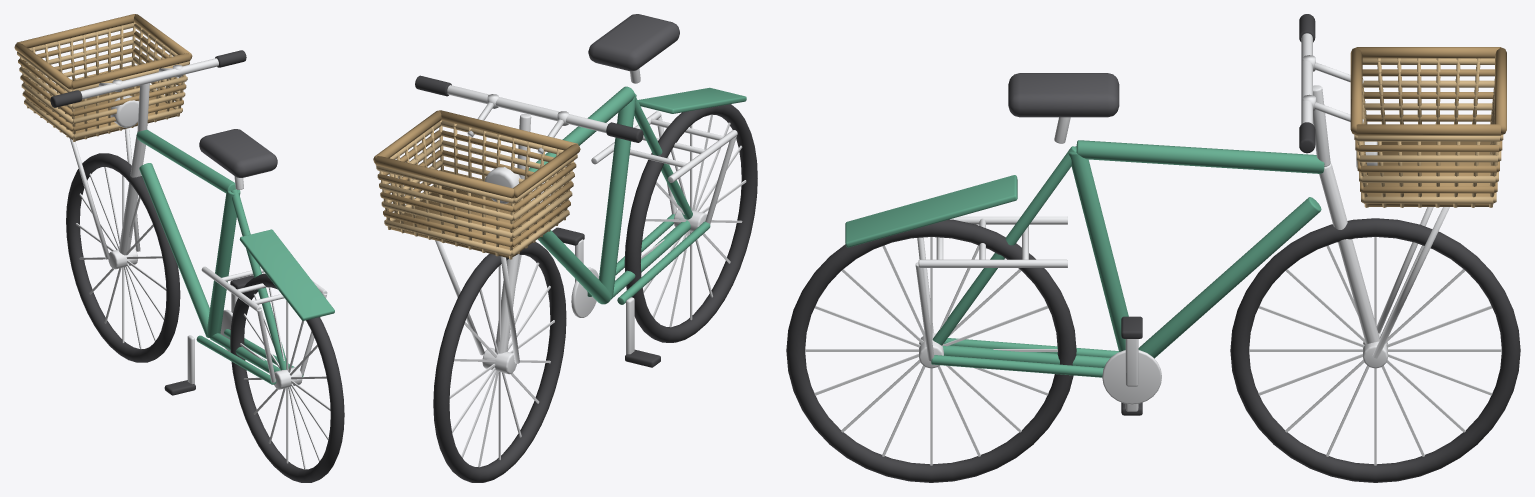
The model's file is Rower.fbx.
3 views of the same model, side by side, from view 1: azimuth 30°, elevation 25°; view 2: azimuth 150°, elevation 25°; view 3: azimuth 270°, elevation 25° (orthographic). The views are drawn at different scales.
Parts seen in each view (by area): view 1: Rower_Rama, Rower_Koszyk_Wiklina, Rower_Kolo_Przod_ObrotX, Rower_Kolo_Tyl_ObrotX, Rower_Korba_ObrotX, Rower_Koszyk_Mocowanie; view 2: Rower_Rama, Rower_Koszyk_Wiklina, Rower_Kolo_Przod_ObrotX, Rower_Kolo_Tyl_ObrotX, Rower_Korba_ObrotX, Rower_Koszyk_Mocowanie; view 3: Rower_Rama, Rower_Koszyk_Wiklina, Rower_Kolo_Przod_ObrotX, Rower_Kolo_Tyl_ObrotX, Rower_Korba_ObrotX, Rower_Koszyk_Mocowanie.
Boxes of the visible parts, <box> form: Rower_Rama: <box>50,50,334,384</box>; Rower_Koszyk_Wiklina: <box>14,14,192,141</box>; Rower_Kolo_Przod_ObrotX: <box>66,153,180,362</box>; Rower_Kolo_Tyl_ObrotX: <box>230,273,344,482</box>; Rower_Korba_ObrotX: <box>164,275,253,395</box>; Rower_Koszyk_Mocowanie: <box>69,64,182,259</box>; Rower_Rama: <box>415,14,746,353</box>; Rower_Koszyk_Wiklina: <box>373,110,580,259</box>; Rower_Kolo_Przod_ObrotX: <box>433,242,566,482</box>; Rower_Kolo_Tyl_ObrotX: <box>624,104,757,342</box>; Rower_Korba_ObrotX: <box>552,227,660,367</box>; Rower_Koszyk_Mocowanie: <box>435,94,568,363</box>; Rower_Rama: <box>845,14,1379,377</box>; Rower_Koszyk_Wiklina: <box>1350,47,1506,207</box>; Rower_Kolo_Przod_ObrotX: <box>1230,218,1520,482</box>; Rower_Kolo_Tyl_ObrotX: <box>786,219,1076,482</box>; Rower_Korba_ObrotX: <box>1102,316,1161,415</box>; Rower_Koszyk_Mocowanie: <box>1302,55,1449,358</box>.
Size of the model in its own units: 0.7 by 1.05 by 1.72.
